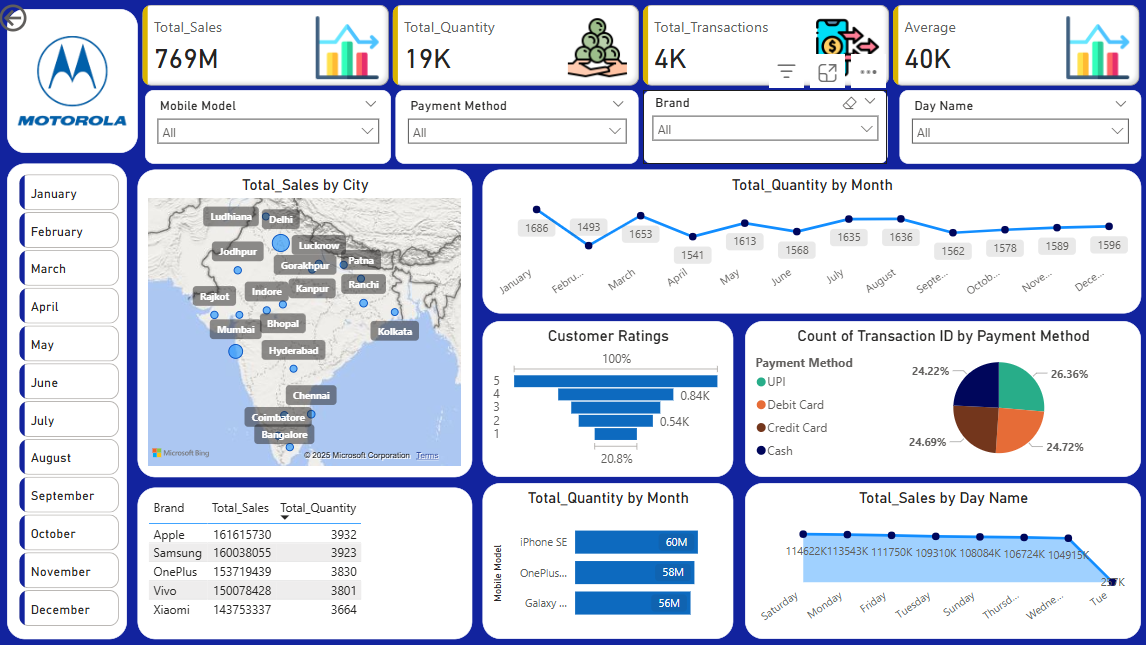

Layout of this report page (visuals, bound fields, positions):
{"tool":"powerbi","page":{"name":"Page 1","canvas":[1280,720],"ordinal":0},"visuals":[{"type":"image","box":[13.3,10,145,160],"z":0},{"type":"shape","box":[13,181.7,133.3,528.3],"z":1000},{"type":"advancedSlicerVisual","fields":{"Values":["Sales_Data.Date.Variation.Date Hierarchy.Month"]},"box":[21.7,188.3,121.7,516.7],"z":2000},{"type":"actionButton","box":[0,0,100,40],"z":3000},{"type":"cardVisual","fields":{"Data":["Mobile Sales Data.Total_Sales","Mobile Sales Data.Total_Quantity","Mobile Sales Data.Total_Transactions","Mobile Sales Data.Average"]},"box":[158.3,0,1121.7,100],"z":4000},{"type":"map","fields":{"Size":["Mobile Sales Data.Total_Sales"],"Category":["Mobile Sales Data.City"]},"box":[158.3,188.3,371.7,341.7],"z":5000},{"type":"lineChart","title":"Total_Quantity by Month","fields":{"Y":["Mobile Sales Data.Total_Quantity"],"Category":["Sales_Data.Date.Variation.Date Hierarchy.Month","Sales_Data.Date.Variation.Date Hierarchy.Day"]},"box":[541.7,188.3,731.7,160],"z":6000},{"type":"clusteredBarChart","title":"Total_Quantity by Month","fields":{"Category":["Mobile Sales Data.Mobile Model"],"Y":["Mobile Sales Data.Total_Sales"]},"box":[541.7,536.7,278.3,173.3],"z":7000},{"type":"pieChart","fields":{"Category":["Sales_Data.Payment Method"],"Y":["CountNonNull(Sales_Data.Transaction ID)"]},"box":[833.3,356.7,440,173.3],"z":8000},{"type":"funnel","title":"Customer Ratings","fields":{"Category":["Sales_Data.Customer Ratings"],"Y":["CountNonNull(Sales_Data.Customer Ratings)"]},"box":[541.7,356.7,278.3,173.3],"z":9000},{"type":"areaChart","fields":{"Category":["Sales_Data.Day Name"],"Y":["Mobile Sales Data.Total_Sales"]},"box":[833.3,536.7,440,168.3],"z":10000},{"type":"tableEx","fields":{"Values":["Sales_Data.Brand","Mobile Sales Data.Total_Sales","Mobile Sales Data.Total_Quantity"]},"box":[158.3,541.7,371.7,168.3],"z":11000},{"type":"slicer","fields":{"Values":["Sales_Data.Mobile Model"]},"box":[166.7,100,273.3,81.7],"z":12000},{"type":"slicer","fields":{"Values":["Sales_Data.Payment Method"]},"box":[445,100,270,81.7],"z":13000},{"type":"slicer","fields":{"Values":["Sales_Data.Brand"]},"box":[720,100,271.7,81.7],"z":14000},{"type":"slicer","fields":{"Values":["Sales_Data.Day Name"]},"box":[1005,100,268.3,81.7],"z":15000}]}

Visuals, with their boxes in screenshot pixels (x1, y1, x2, y2), scaled from the page's 1280x720 canvas onto the 1146x645 screenshot:
image: {"left": 12, "top": 9, "right": 142, "bottom": 152}
shape: {"left": 12, "top": 163, "right": 131, "bottom": 636}
advancedSlicerVisual - Sales_Data.Date.Variation.Date Hierarchy.Month: {"left": 19, "top": 169, "right": 128, "bottom": 632}
actionButton: {"left": 0, "top": 0, "right": 90, "bottom": 36}
cardVisual - Mobile Sales Data.Total_Sales x Mobile Sales Data.Total_Quantity: {"left": 142, "top": 0, "right": 1145, "bottom": 90}
map - Mobile Sales Data.Total_Sales x Mobile Sales Data.City: {"left": 142, "top": 169, "right": 475, "bottom": 475}
"Total_Quantity by Month" lineChart: {"left": 485, "top": 169, "right": 1140, "bottom": 312}
"Total_Quantity by Month" clusteredBarChart: {"left": 485, "top": 481, "right": 734, "bottom": 636}
pieChart - Sales_Data.Payment Method x CountNonNull(Sales_Data.Transaction ID): {"left": 746, "top": 320, "right": 1140, "bottom": 475}
"Customer Ratings" funnel: {"left": 485, "top": 320, "right": 734, "bottom": 475}
areaChart - Sales_Data.Day Name x Mobile Sales Data.Total_Sales: {"left": 746, "top": 481, "right": 1140, "bottom": 632}
tableEx - Sales_Data.Brand x Mobile Sales Data.Total_Sales: {"left": 142, "top": 485, "right": 475, "bottom": 636}
slicer - Sales_Data.Mobile Model: {"left": 149, "top": 90, "right": 394, "bottom": 163}
slicer - Sales_Data.Payment Method: {"left": 398, "top": 90, "right": 640, "bottom": 163}
slicer - Sales_Data.Brand: {"left": 645, "top": 90, "right": 888, "bottom": 163}
slicer - Sales_Data.Day Name: {"left": 900, "top": 90, "right": 1140, "bottom": 163}
